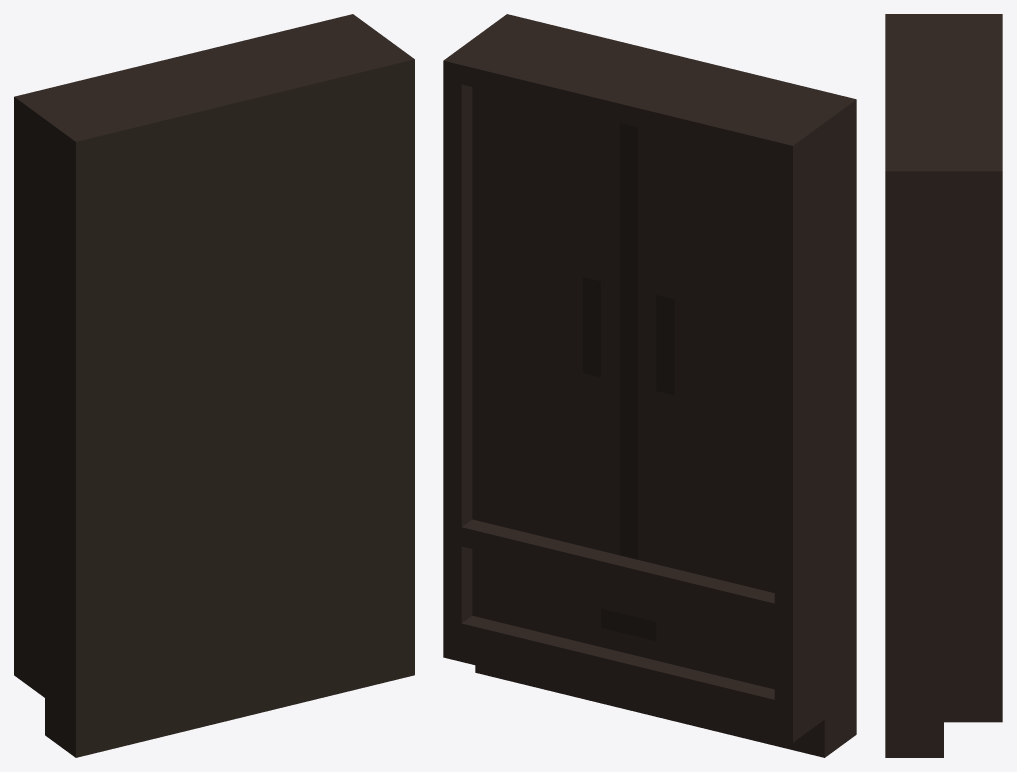
Rendered from old peopl's room-2.obj.
3 views of the same model, side by side, from view 1: azimuth 30°, elevation 25°; view 2: azimuth 150°, elevation 25°; view 3: azimuth 270°, elevation 25° (orthographic). The views are drawn at different scales.
Size of the model in its own units: 1.9 by 3.3 by 0.6.
1 material, 1 textured.
